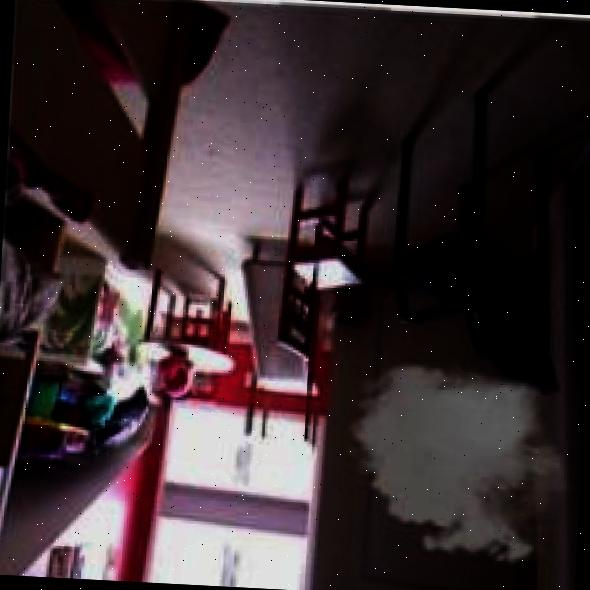smoke: (335, 353, 584, 573)
